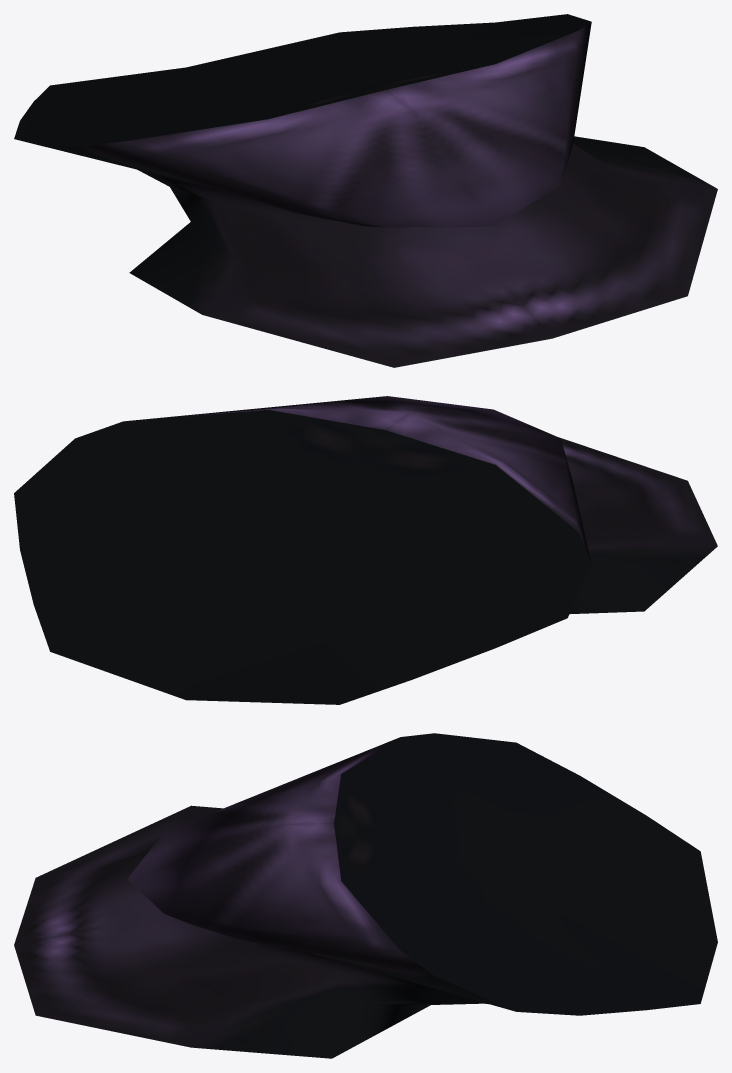
The model's file is shadow_helm_drop.fbx.
The picture shows the model from 3 angles, top to bottom: view 1: azimuth 30°, elevation 25°; view 2: azimuth 150°, elevation 25°; view 3: azimuth 270°, elevation 25°; orthographic projection. The views are drawn at different scales.
Visible parts, largest first — view 1: Shadow/helmet; view 2: Shadow/helmet; view 3: Shadow/helmet.
Part boxes in pixels (<box>): Shadow/helmet: <box>14,14,717,367</box>; Shadow/helmet: <box>14,396,717,704</box>; Shadow/helmet: <box>14,733,717,1058</box>.
Size of the model in its own units: 0.2137 by 0.0538 by 0.2449.
